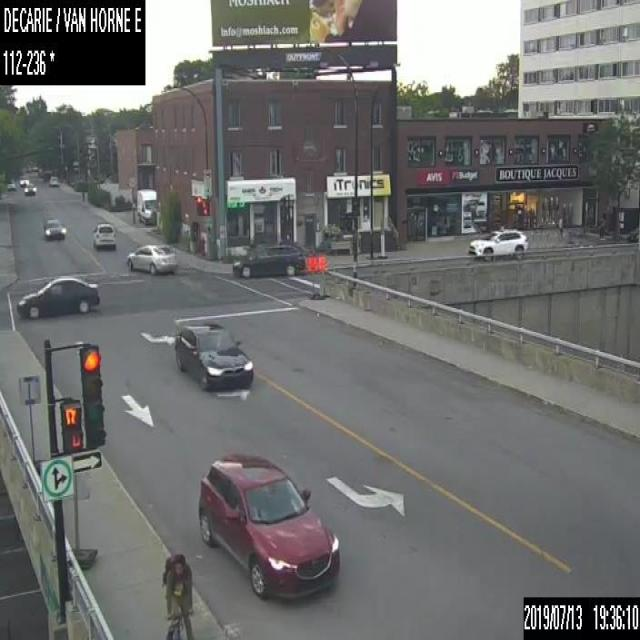construction: (66, 468, 96, 568), (17, 372, 44, 476), (306, 255, 318, 298), (317, 255, 327, 299)
cyclist: (160, 552, 195, 639)
vehicle: (196, 451, 338, 597), (174, 320, 254, 389), (15, 273, 100, 319), (231, 241, 306, 276), (467, 226, 528, 260), (126, 244, 176, 273), (136, 188, 156, 225), (92, 221, 115, 248), (42, 217, 66, 239), (24, 182, 35, 194), (48, 175, 58, 185), (19, 175, 28, 185), (43, 169, 51, 180), (7, 180, 15, 190)
